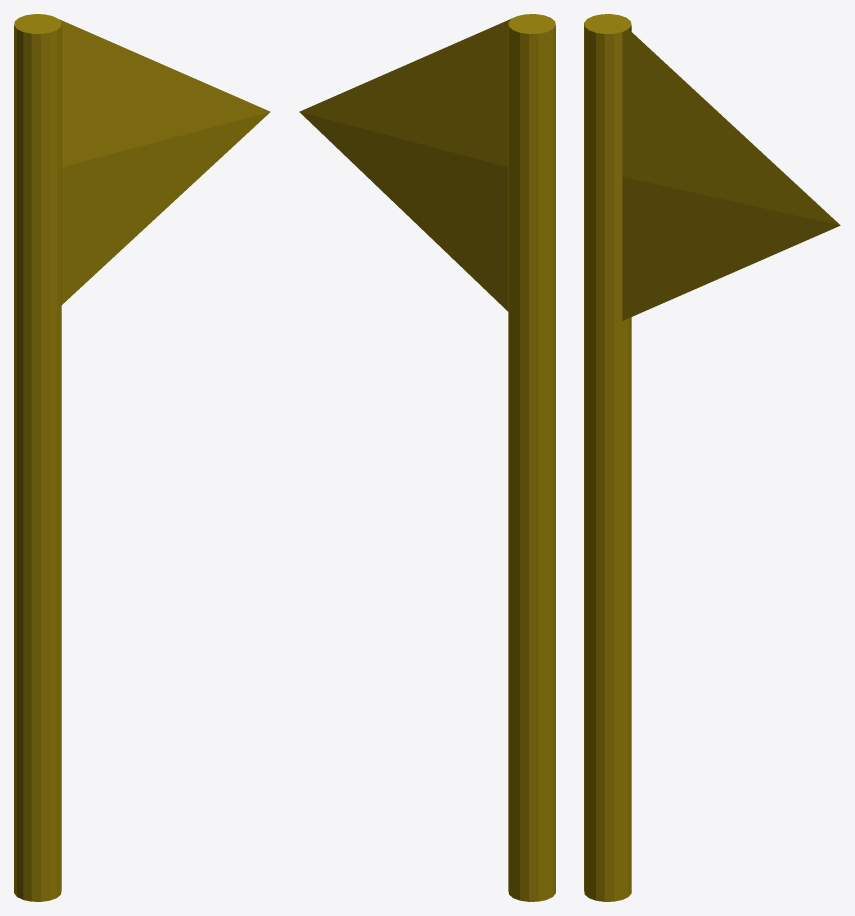
Rendered from Flag_000.fbx.
3 views of the same model, side by side, from view 1: azimuth 30°, elevation 25°; view 2: azimuth 150°, elevation 25°; view 3: azimuth 330°, elevation 25° (orthographic).
Parts seen in each view (by area): view 1: Cylinder; view 2: Cylinder; view 3: Cylinder.
Part boxes in pixels (x1,y1,x2,y2): Cylinder: (14, 14, 270, 901); Cylinder: (299, 14, 555, 901); Cylinder: (584, 14, 840, 901).
Bounding box in the file's own units: 122 × 400 × 20.
